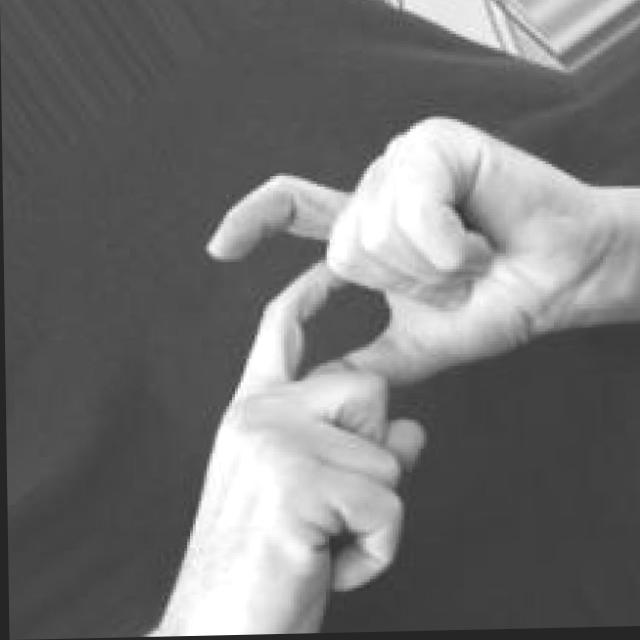G: (131, 109, 640, 637)
